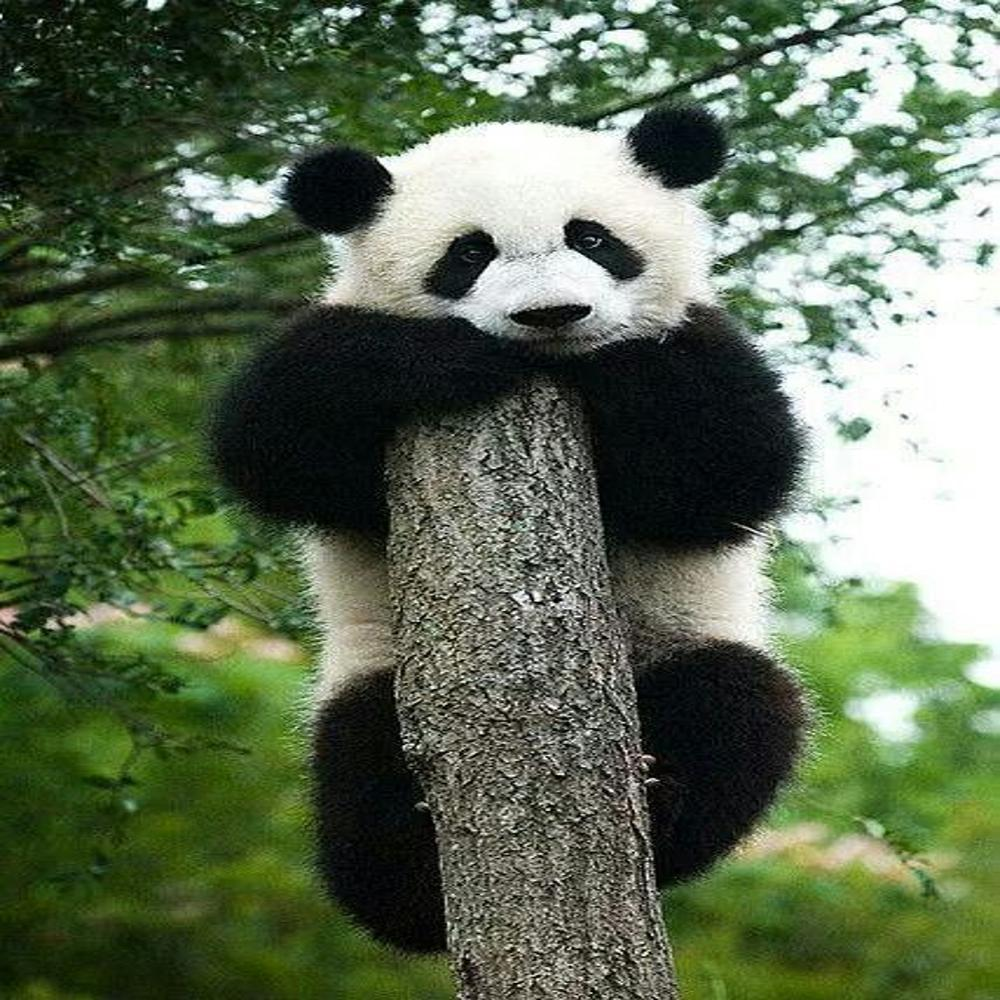panda: (220, 102, 808, 933)
